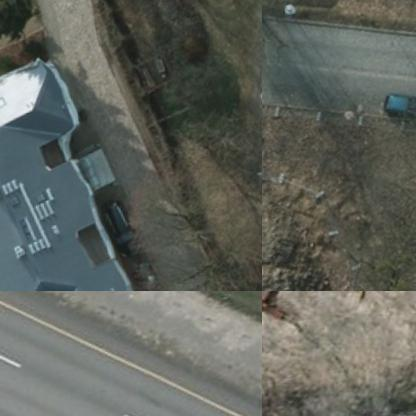car: (100, 192, 152, 255), (380, 82, 415, 123)
